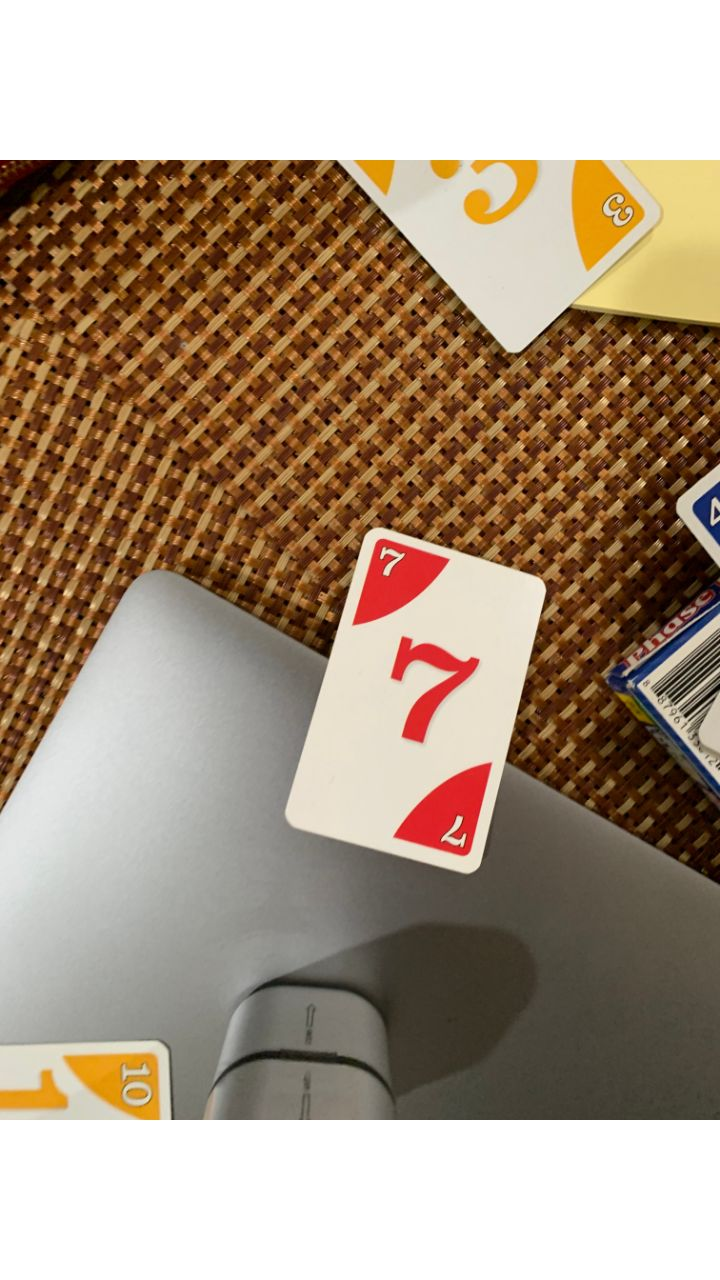seven: (286, 531, 550, 878)
